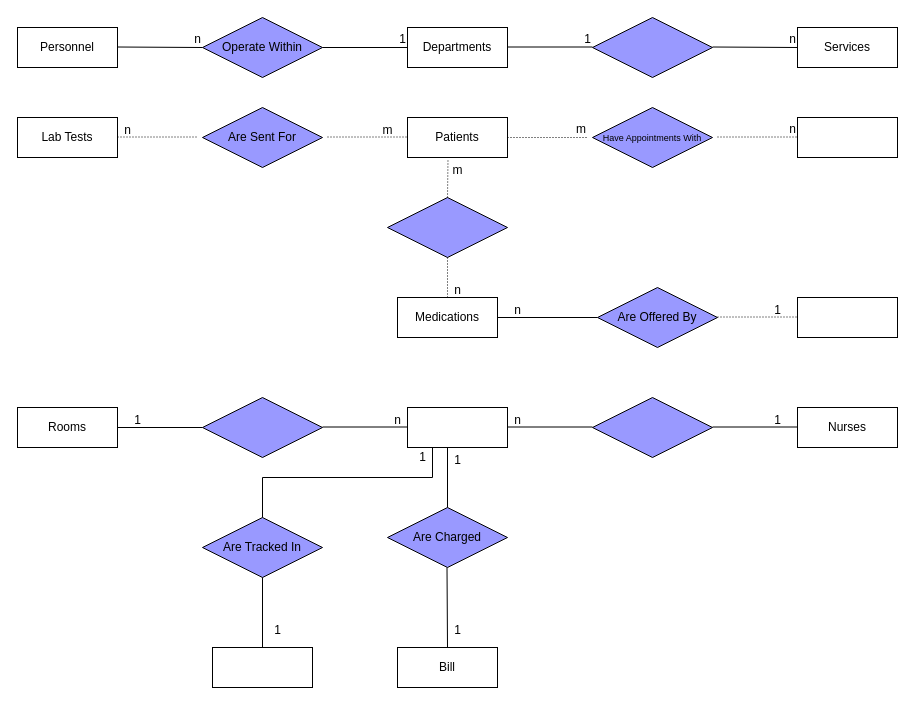
This 915x705 diagram has some shape labels left out. Each missing label, with the centre of its shape:
"Are Allocated" belongs at (x=262, y=427).
"Are Handled By" belongs at (x=652, y=427).
"HMIS" belongs at (x=262, y=667).
"Inpatients" belongs at (x=457, y=427).
"Pharmacy" belongs at (x=847, y=317).
"Physicians" belongs at (x=847, y=137).
"Provide" belongs at (x=652, y=47).
"Receive" belongs at (x=447, y=227).
